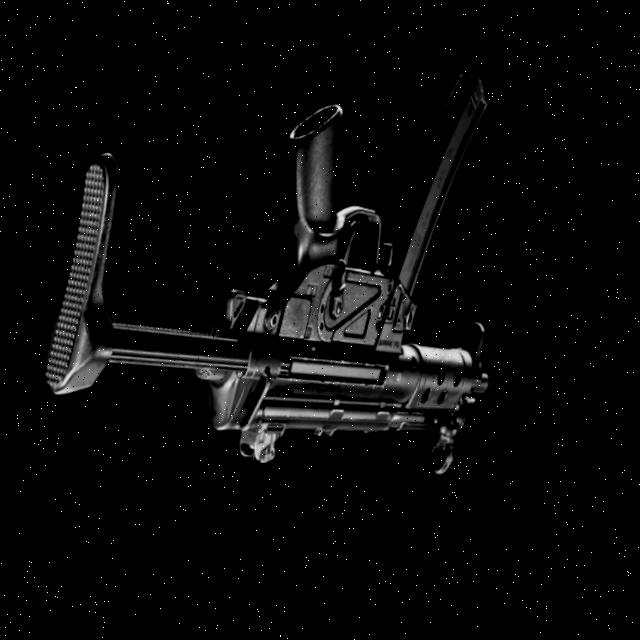firearm: (21, 0, 563, 530)
